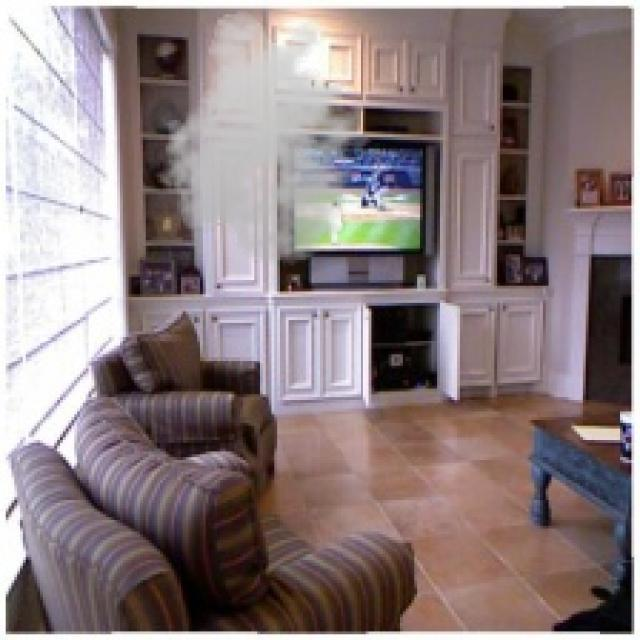Smoke: (151, 8, 383, 266)
